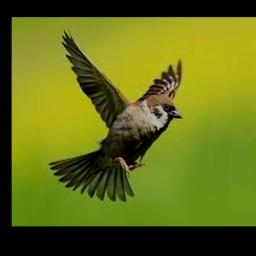Sparrow: (49, 28, 182, 202)
